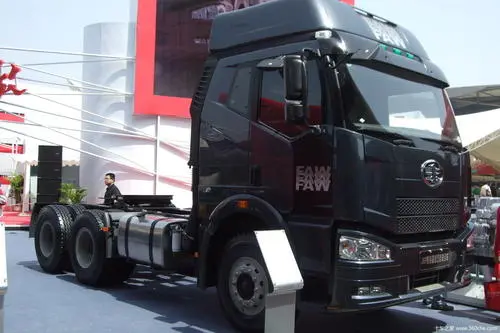bigtruck: (48, 13, 463, 311)
